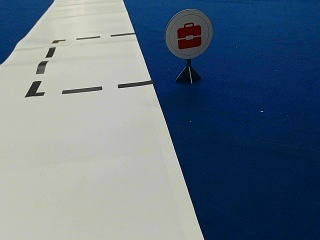company: (166, 8, 212, 58)
